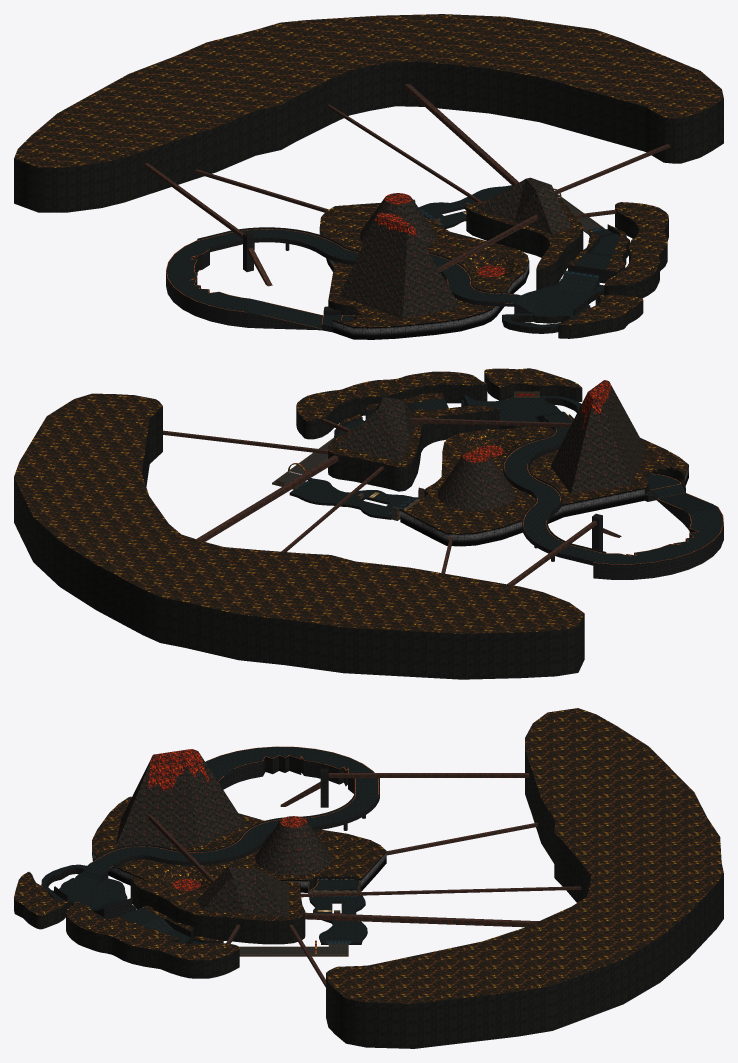
3 views of the same model, one above another, from view 1: azimuth 30°, elevation 25°; view 2: azimuth 150°, elevation 25°; view 3: azimuth 270°, elevation 25° (orthographic).
Parts seen in each view (by area): view 1: Volcano_Way_2k17_Main-off_road1.001, Volcano_Way_2k17_Main-paroi2.001, Volcano_Way_2k17_Main-volcano.001, Volcano_Way_2k17_Main-road1.001, Volcano_Way_2k17_Main-barre_metal.001, Volcano_Way_2k17_Main-mur1.001, Volcano_Way_2k17_Main-paroi1.001, Volcano_Way_2k17_Main-lava2.001, Volcano_Way_2k17_Main-road2.001; view 2: Volcano_Way_2k17_Main-off_road1.001, Volcano_Way_2k17_Main-paroi2.001, Volcano_Way_2k17_Main-volcano.001, Volcano_Way_2k17_Main-road1.001, Volcano_Way_2k17_Main-barre_metal.001, Volcano_Way_2k17_Main-mur1.001, Volcano_Way_2k17_Main-paroi1.001, Volcano_Way_2k17_Main-lava2.001, Volcano_Way_2k17_Main-socle.001, Volcano_Way_2k17_Main-road2.001, Volcano_Way_2k17_Main-road_metal.001; view 3: Volcano_Way_2k17_Main-off_road1.001, Volcano_Way_2k17_Main-paroi2.001, Volcano_Way_2k17_Main-volcano.001, Volcano_Way_2k17_Main-road1.001, Volcano_Way_2k17_Main-barre_metal.001, Volcano_Way_2k17_Main-mur1.001, Volcano_Way_2k17_Main-lava2.001, Volcano_Way_2k17_Main-paroi1.001, Volcano_Way_2k17_Main-road_metal.001, Volcano_Way_2k17_Main-socle.001, Volcano_Way_2k17_Main-road2.001.
Part boxes in pixels (x1,y1,x2,y2): Volcano_Way_2k17_Main-off_road1.001: [14, 14, 723, 327]; Volcano_Way_2k17_Main-paroi2.001: [14, 61, 723, 338]; Volcano_Way_2k17_Main-volcano.001: [339, 177, 571, 318]; Volcano_Way_2k17_Main-road1.001: [166, 185, 620, 328]; Volcano_Way_2k17_Main-barre_metal.001: [144, 84, 670, 286]; Volcano_Way_2k17_Main-mur1.001: [166, 206, 620, 332]; Volcano_Way_2k17_Main-paroi1.001: [319, 230, 529, 339]; Volcano_Way_2k17_Main-lava2.001: [374, 193, 505, 276]; Volcano_Way_2k17_Main-road2.001: [166, 229, 513, 328]; Volcano_Way_2k17_Main-off_road1.001: [14, 368, 688, 633]; Volcano_Way_2k17_Main-paroi2.001: [14, 372, 697, 679]; Volcano_Way_2k17_Main-volcano.001: [336, 386, 646, 510]; Volcano_Way_2k17_Main-road1.001: [290, 395, 723, 563]; Volcano_Way_2k17_Main-barre_metal.001: [163, 417, 621, 585]; Volcano_Way_2k17_Main-mur1.001: [307, 395, 723, 579]; Volcano_Way_2k17_Main-paroi1.001: [400, 465, 688, 546]; Volcano_Way_2k17_Main-lava2.001: [462, 380, 611, 462]; Volcano_Way_2k17_Main-socle.001: [272, 391, 539, 520]; Volcano_Way_2k17_Main-road2.001: [504, 413, 723, 564]; Volcano_Way_2k17_Main-road_metal.001: [274, 441, 331, 488]; Volcano_Way_2k17_Main-off_road1.001: [14, 708, 723, 1003]; Volcano_Way_2k17_Main-paroi2.001: [14, 749, 723, 1048]; Volcano_Way_2k17_Main-volcano.001: [116, 757, 332, 916]; Volcano_Way_2k17_Main-road1.001: [41, 746, 378, 943]; Volcano_Way_2k17_Main-barre_metal.001: [148, 773, 581, 987]; Volcano_Way_2k17_Main-mur1.001: [54, 760, 379, 944]; Volcano_Way_2k17_Main-lava2.001: [148, 749, 307, 890]; Volcano_Way_2k17_Main-paroi1.001: [92, 843, 386, 892]; Volcano_Way_2k17_Main-road_metal.001: [239, 943, 347, 954]; Volcano_Way_2k17_Main-socle.001: [239, 880, 360, 956]; Volcano_Way_2k17_Main-road2.001: [91, 746, 378, 890].
Size of the model in its own units: 124402 by 17221 by 126204.
Materials: 18 (18 with a texture image).
